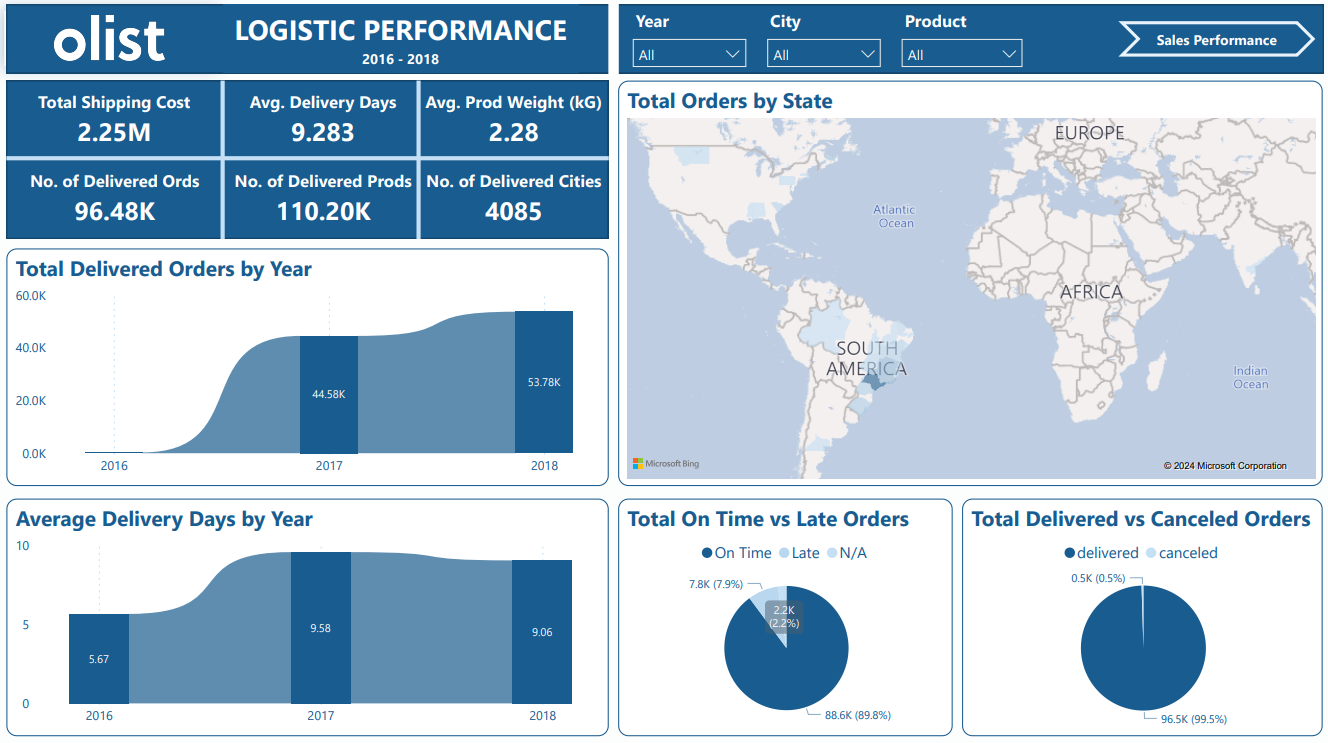

The dashboard page shown, as its layout file describes it:
{"tool":"powerbi","page":{"name":"Logistic Performance","canvas":[1280,720],"ordinal":1},"visuals":[{"type":"shape","box":[9.2,80,577.5,151.7],"z":0},{"type":"card","title":"Total Shipping Cost","fields":{"Values":["Sum(olist_order_items_dataset.freight_value)"]},"box":[15.8,89.2,193.3,59.2],"z":1000},{"type":"card","title":"No. of Delivered Ords","fields":{"Values":["Count(olist_order_items_dataset.order_id)"]},"box":[14.7,165.3,196,58.7],"z":2000},{"type":"shape","box":[9,7,1264,66],"z":3000},{"type":"card","title":"Avg. Delivery Days","fields":{"Values":["Avg(olist_orders_dataset.Total_Delivery_Time_Hours)"]},"box":[222,89,182,59],"z":4000},{"type":"shape","box":[188,80,57,152],"z":5000},{"type":"card","title":"No. of Delivered Prods","fields":{"Values":["CountNonNull(olist_order_items_dataset.product_id)"]},"box":[216.7,164.7,192,59.3],"z":6000},{"type":"textbox","box":[216.7,7.2,311.1,66.1],"z":7000},{"type":"card","title":"No. of Delivered Cities","fields":{"Values":["Count(olist_customers_dataset.customer_city)"]},"box":[398,165.3,196,59.3],"z":8000},{"type":"shape","box":[376,80,57,152],"z":9000},{"type":"card","title":"Avg. Prod Weight (kG)","fields":{"Values":["Avg(olist_products_dataset.product_weight_kg)"]},"box":[405,89,182,59],"z":10000},{"type":"image","box":[7,13,202,53],"z":11000},{"type":"shape","box":[9,145,578,19],"z":12000},{"type":"ribbonChart","title":"Total Delivered Orders by Year","fields":{"Category":["olist_orders_dataset.year Hierarchy.year_purchased"],"Y":["Count(olist_order_items_dataset.order_id)"]},"box":[9,241,578,228],"z":13000},{"type":"ribbonChart","title":"Average Delivery Days by Year","fields":{"Y":["Avg(olist_orders_dataset.Total_Delivery_Time_Days)"],"Category":["olist_orders_dataset.year Hierarchy.year"]},"box":[9,481,578,228],"z":14000},{"type":"filledMap","title":"Total Orders by State","fields":{"Category":["olist_customers_dataset.customer_state"]},"box":[596,80,676,389],"z":15000},{"type":"pieChart","title":"Total On Time vs Late Orders","fields":{"Category":["olist_orders_dataset.delivered_check"],"Y":["Count(olist_order_items_dataset.order_id)"]},"box":[596,481,321,228],"z":16000},{"type":"slicer","fields":{"Values":["olist_customers_dataset.customer_city"]},"box":[728.8,6.9,129.4,60],"z":18000},{"type":"slicer","fields":{"Values":["product_category_name_translation.product_category_name_english"]},"box":[858.2,6.9,136.2,60],"z":19000},{"type":"slicer","fields":{"Values":["olist_orders_dataset.year Hierarchy.year_purchased"]},"box":[600,6.9,128.8,60],"z":20000},{"type":"shape","box":[574.3,3.3,35.2,73.3],"z":21000},{"type":"pageNavigator","box":[1076.1,23.3,189.4,34.4],"z":22000},{"type":"pieChart","title":"Total Delivered vs Canceled Orders","fields":{"Category":["olist_orders_dataset.order_status"],"Y":["Count(olist_order_items_dataset.order_id)"]},"box":[926,481,346,228],"z":22001}]}

Visuals, with their boxes in screenshot pixels (x1, y1, x2, y2), scaled from the page's 1280x720 canvas onto the 1328x743 screenshot:
shape: Rect(10, 83, 609, 239)
"Total Shipping Cost" card: Rect(16, 92, 217, 153)
"No. of Delivered Ords" card: Rect(15, 171, 219, 231)
shape: Rect(9, 7, 1321, 75)
"Avg. Delivery Days" card: Rect(230, 92, 419, 153)
shape: Rect(195, 83, 254, 239)
"No. of Delivered Prods" card: Rect(225, 170, 424, 231)
textbox: Rect(225, 7, 548, 76)
"No. of Delivered Cities" card: Rect(413, 171, 616, 232)
shape: Rect(390, 83, 449, 239)
"Avg. Prod Weight (kG)" card: Rect(420, 92, 609, 153)
image: Rect(7, 13, 217, 68)
shape: Rect(9, 150, 609, 169)
"Total Delivered Orders by Year" ribbonChart: Rect(9, 249, 609, 484)
"Average Delivery Days by Year" ribbonChart: Rect(9, 496, 609, 732)
"Total Orders by State" filledMap: Rect(618, 83, 1320, 484)
"Total On Time vs Late Orders" pieChart: Rect(618, 496, 951, 732)
slicer - olist_customers_dataset.customer_city: Rect(756, 7, 890, 69)
slicer - product_category_name_translation.product_category_name_english: Rect(890, 7, 1032, 69)
slicer - olist_orders_dataset.year Hierarchy.year_purchased: Rect(622, 7, 756, 69)
shape: Rect(596, 3, 632, 79)
pageNavigator: Rect(1116, 24, 1313, 60)
"Total Delivered vs Canceled Orders" pieChart: Rect(961, 496, 1320, 732)
